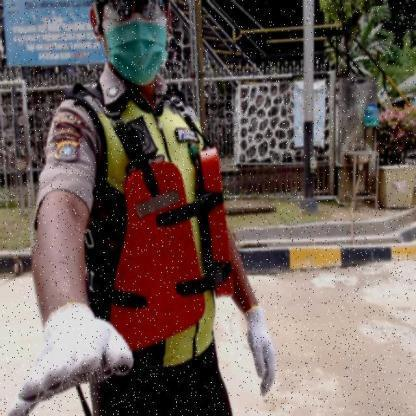gloves: (6, 303, 138, 415), (236, 296, 282, 400)
goggles: (100, 0, 168, 19)
mask: (104, 18, 166, 83)
vest: (98, 145, 238, 352)
